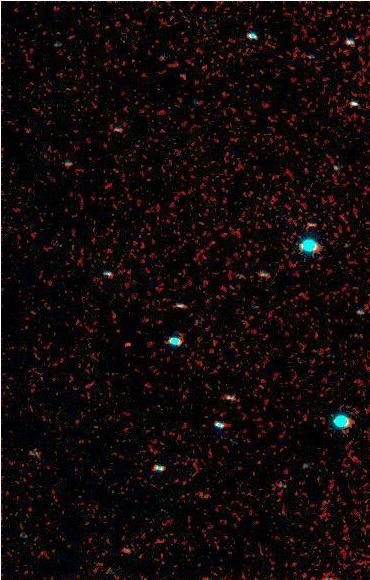star: (112, 329, 142, 359)
